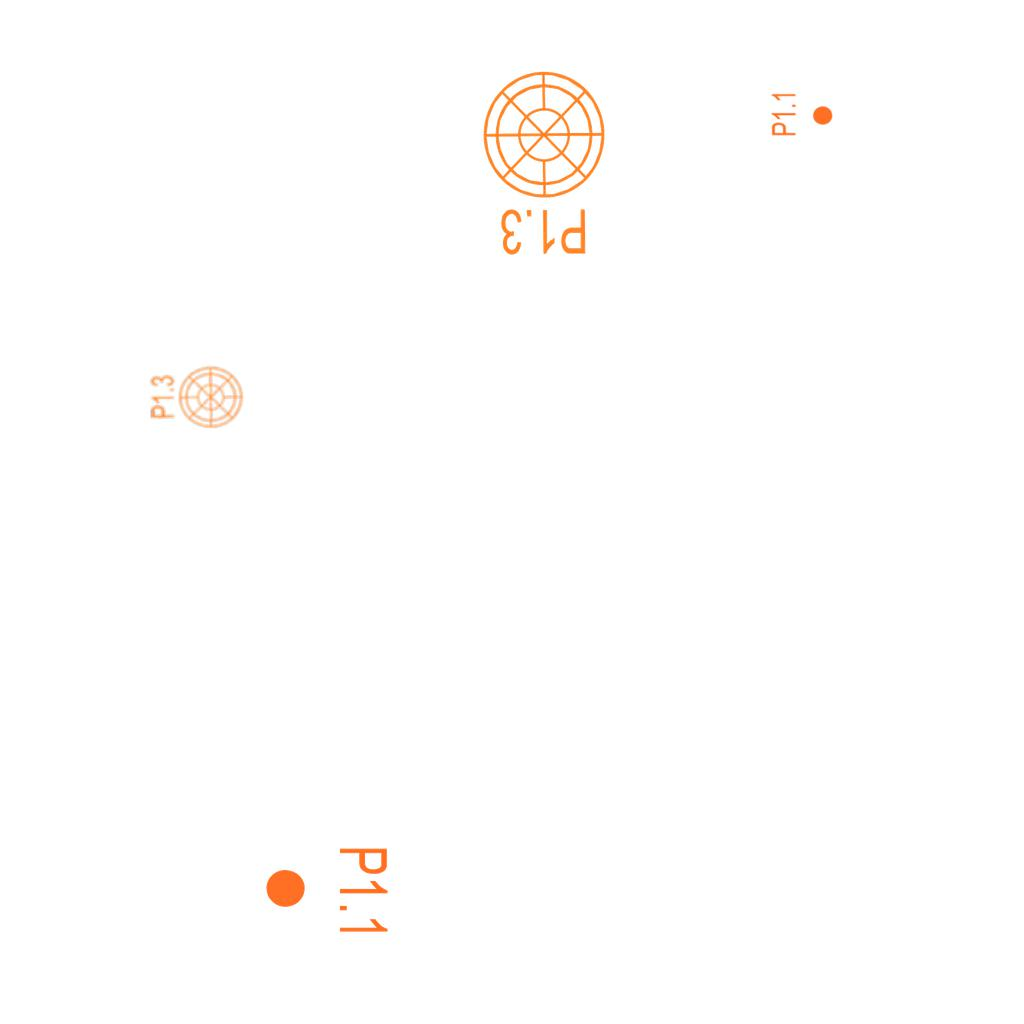Aufbaurundleuchte_LED_Treppenhaus: (469, 68, 608, 273), (142, 360, 244, 429)
Downlight_LED_Einbauleuchten_Flur_2: (263, 845, 391, 938), (770, 91, 834, 137)
